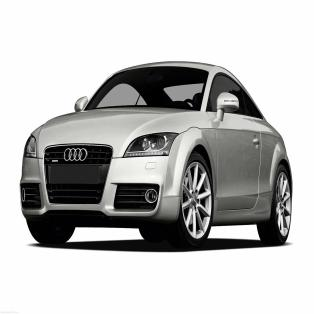Auto: (20, 61, 292, 246)
